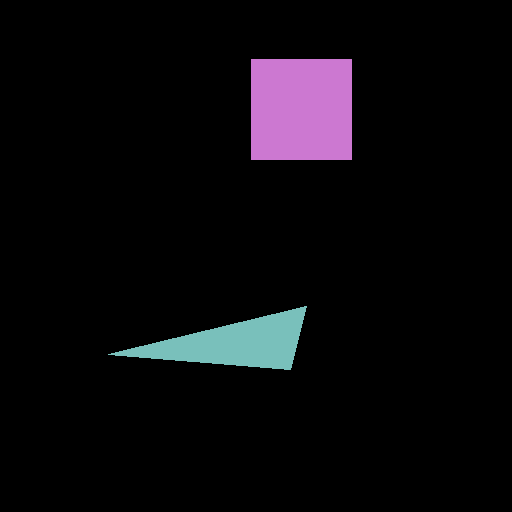square: (251, 59, 351, 159)
triangle: (108, 306, 306, 369)
